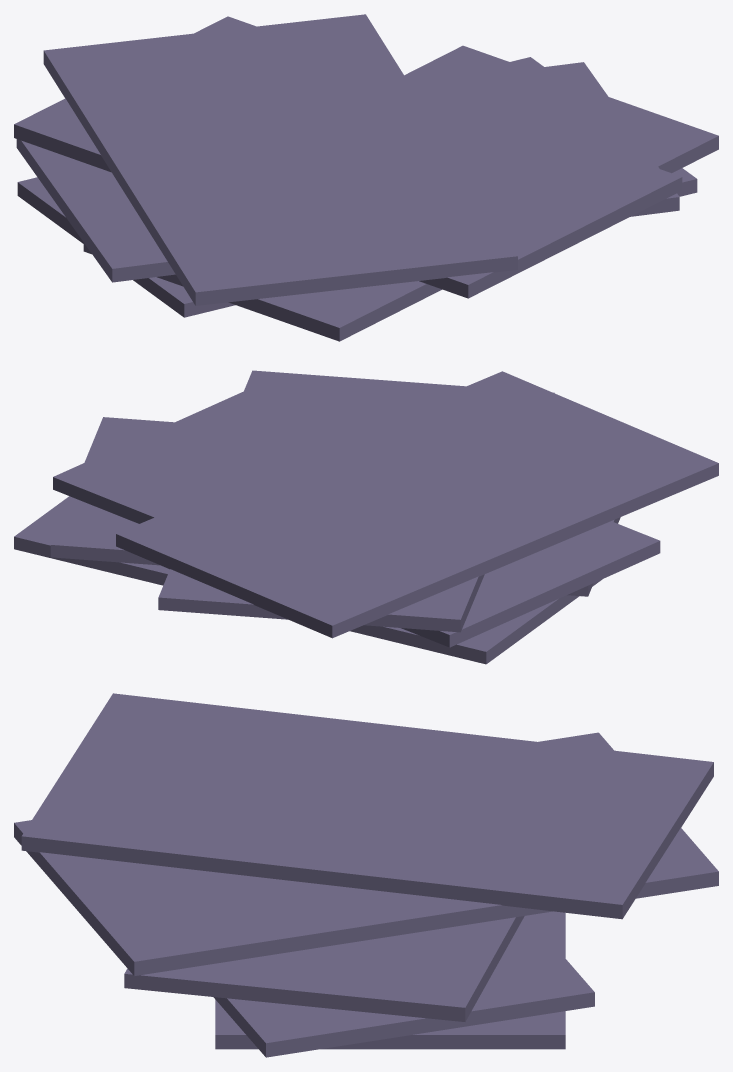
File: SM_Letter2.fbx
3 views of the same model, one above another, from view 1: azimuth 30°, elevation 25°; view 2: azimuth 150°, elevation 25°; view 3: azimuth 270°, elevation 25° (orthographic). The views are drawn at different scales.
Visible parts, largest first — view 1: SM_Letter2; view 2: SM_Letter2; view 3: SM_Letter2.
Boxes of the visible parts, <box> form: SM_Letter2: <box>14,14,718,341</box>; SM_Letter2: <box>14,370,718,664</box>; SM_Letter2: <box>14,693,718,1057</box>.
Size of the model in its own units: 34.13 by 3.77 by 32.73.
